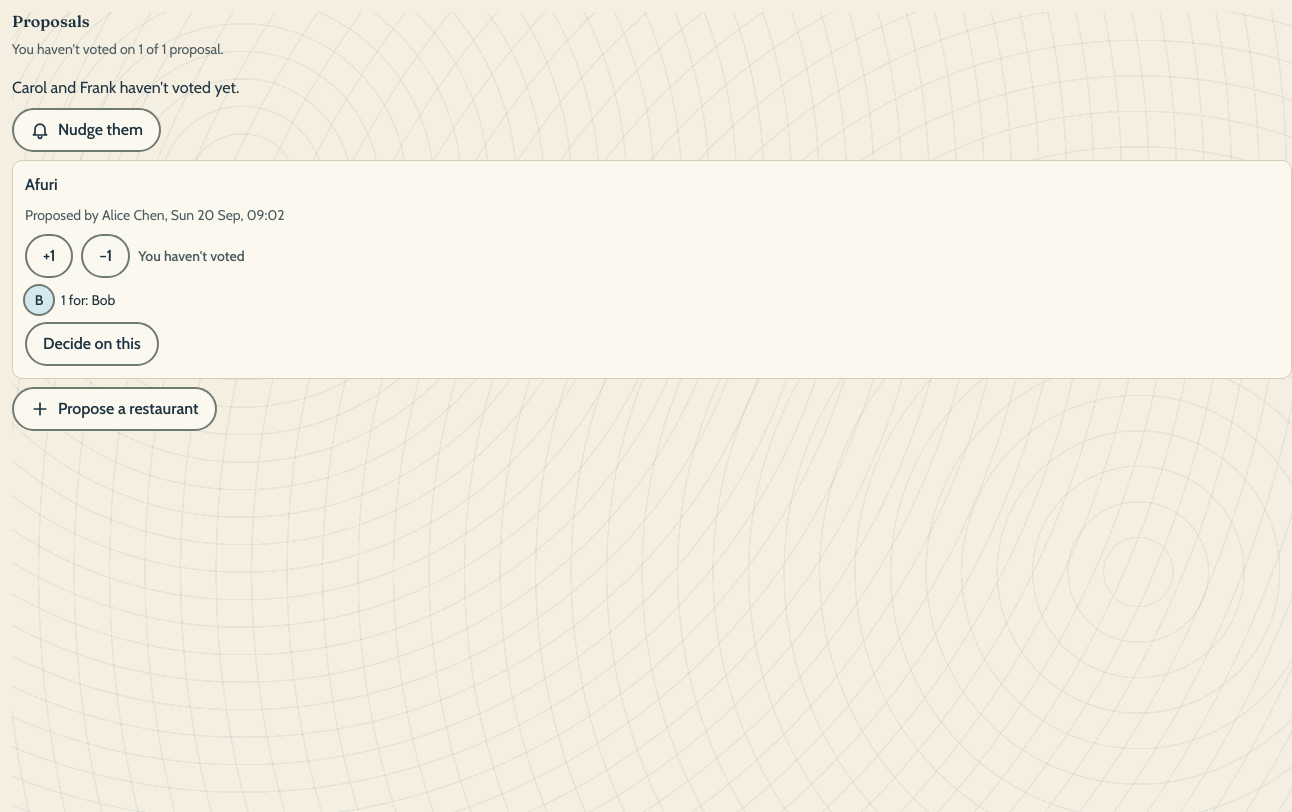
nudging the people who have not voted › nudging says who it reached, then shows the full cooldown
Click the button "Nudge them": (86, 130) [12,108,161,152]
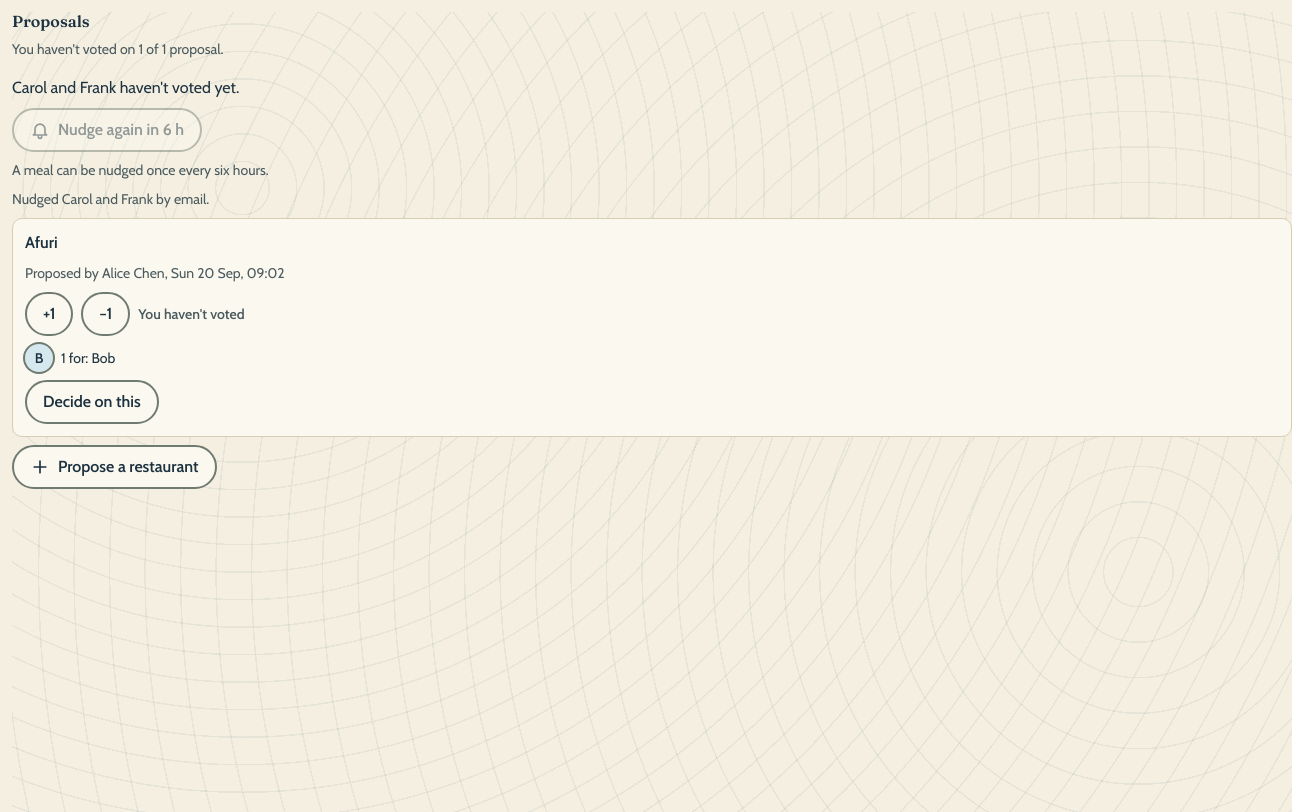
Result: the message "Nudged Carol and Frank by email." is shown at [12,190,209,208]
Result: the button "Nudge again in 6 h" is shown at [12,108,202,152]
Result: the button "Nudge again in 6 h" is disabled at [12,108,202,152]
